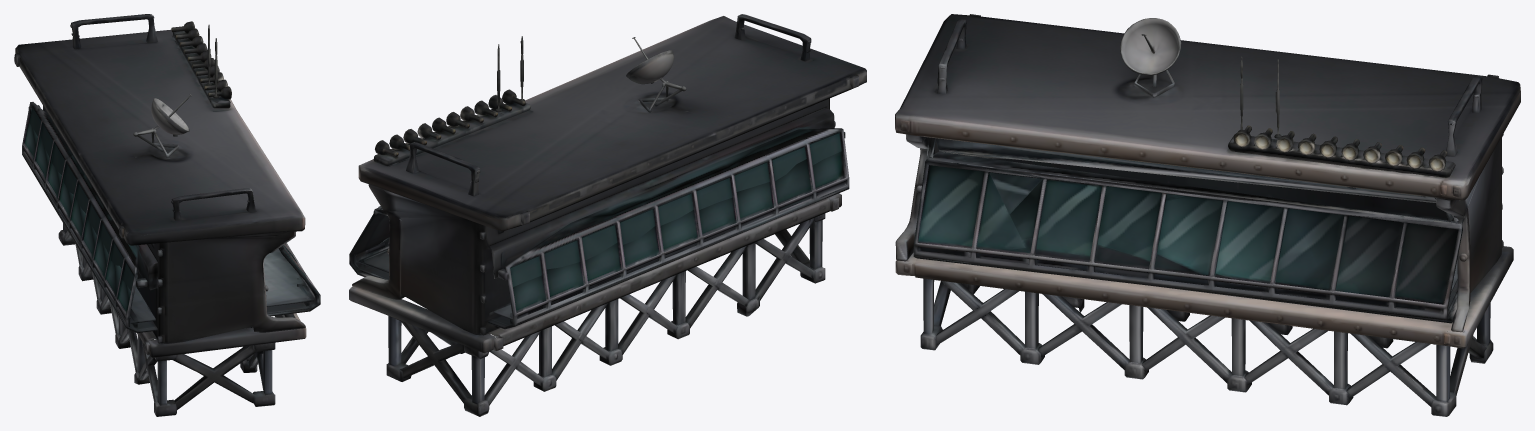
3 views of the same model, side by side, from view 1: azimuth 30°, elevation 25°; view 2: azimuth 150°, elevation 25°; view 3: azimuth 270°, elevation 25° (orthographic). The views are drawn at different scales.
Parts seen in each view (by area): view 1: tripo_node_1441e501-1544-4bbe-b6e4-c57222ccfa81; view 2: tripo_node_1441e501-1544-4bbe-b6e4-c57222ccfa81; view 3: tripo_node_1441e501-1544-4bbe-b6e4-c57222ccfa81.
Part boxes in pixels (bbox=[...]): tripo_node_1441e501-1544-4bbe-b6e4-c57222ccfa81: bbox=[14, 14, 320, 416]; tripo_node_1441e501-1544-4bbe-b6e4-c57222ccfa81: bbox=[349, 14, 866, 416]; tripo_node_1441e501-1544-4bbe-b6e4-c57222ccfa81: bbox=[895, 14, 1520, 416].
Size of the model in its own units: 0.6587 by 0.6021 by 0.9995.
Materials: 1 (1 with a texture image).
